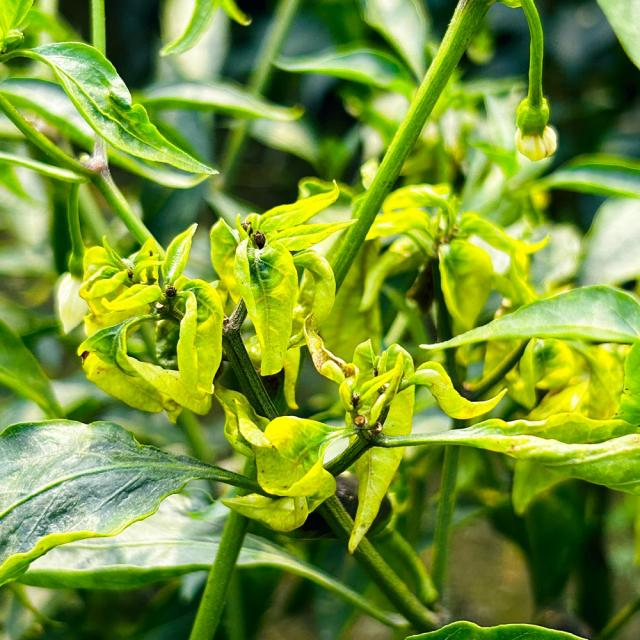Chilli_Leaf_Curl: (1, 2, 638, 636), (240, 322, 508, 554), (0, 417, 264, 587), (3, 38, 220, 184), (208, 178, 358, 377), (76, 221, 224, 422), (359, 180, 550, 333), (417, 283, 639, 352), (509, 0, 558, 161)
